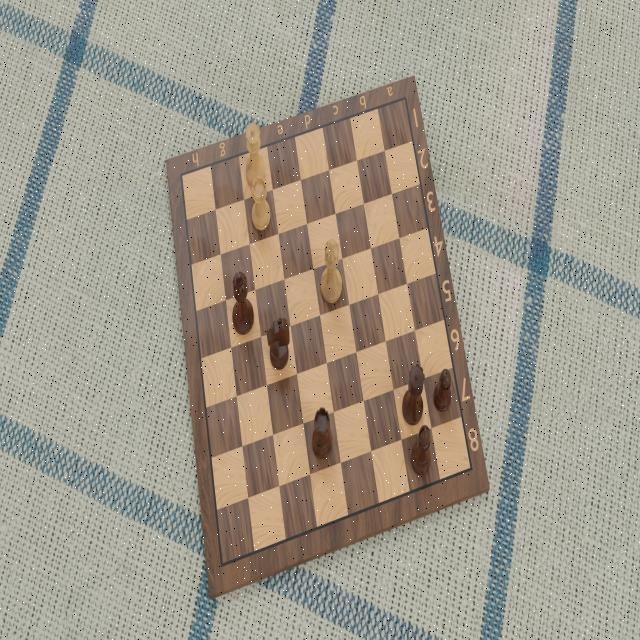black-bishop: (410, 424, 434, 480)
black-king: (318, 236, 344, 307), (230, 269, 255, 338)
black-knight: (265, 315, 291, 373)
black-pawn: (431, 365, 453, 415)
black-queen: (401, 362, 425, 425)
black-rook: (310, 403, 334, 461)
white-queen: (244, 119, 267, 191)
white-rook: (250, 174, 271, 235)
